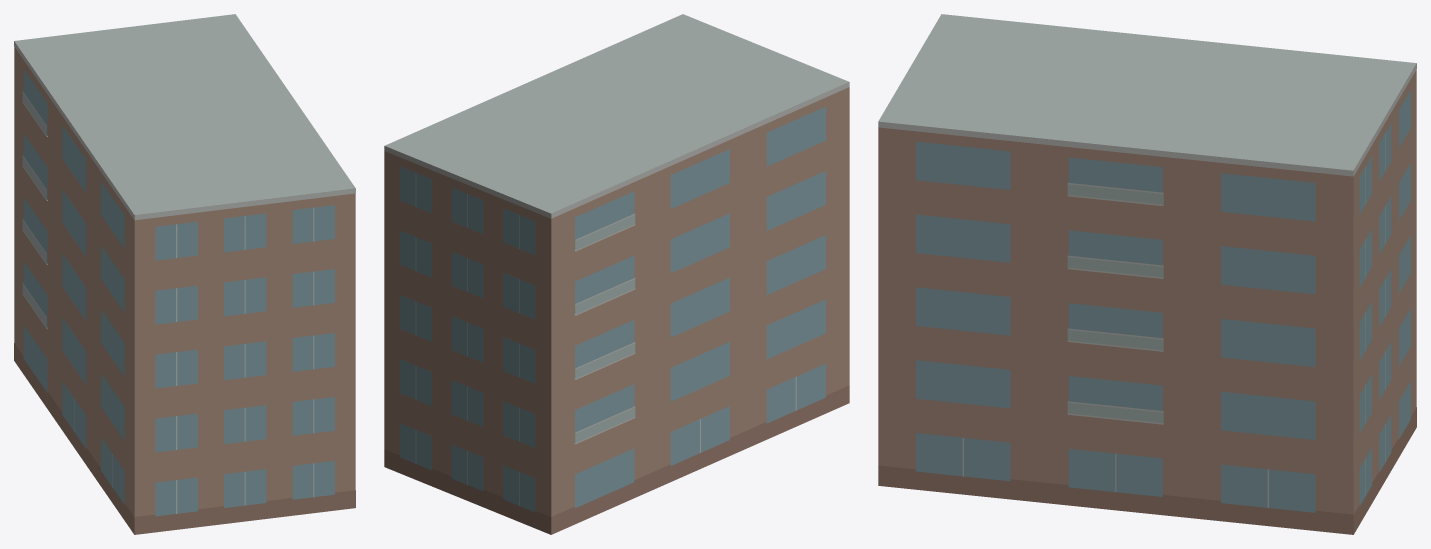
Rendered from survey-upis-32993156.glb.
3 views of the same model, side by side, from view 1: azimuth 30°, elevation 25°; view 2: azimuth 150°, elevation 25°; view 3: azimuth 270°, elevation 25° (orthographic). The views are drawn at different scales.
Visible parts, largest first — view 1: survey-upis-32993156.tmp; view 2: survey-upis-32993156.tmp; view 3: survey-upis-32993156.tmp.
Boxes of the visible parts, left/top/right/bottom form: survey-upis-32993156.tmp: left=14, top=14, right=355, bottom=534; survey-upis-32993156.tmp: left=384, top=14, right=849, bottom=534; survey-upis-32993156.tmp: left=878, top=14, right=1416, bottom=534.
Bounding box in the file's own units: 14.08 × 15.25 × 20.45.
